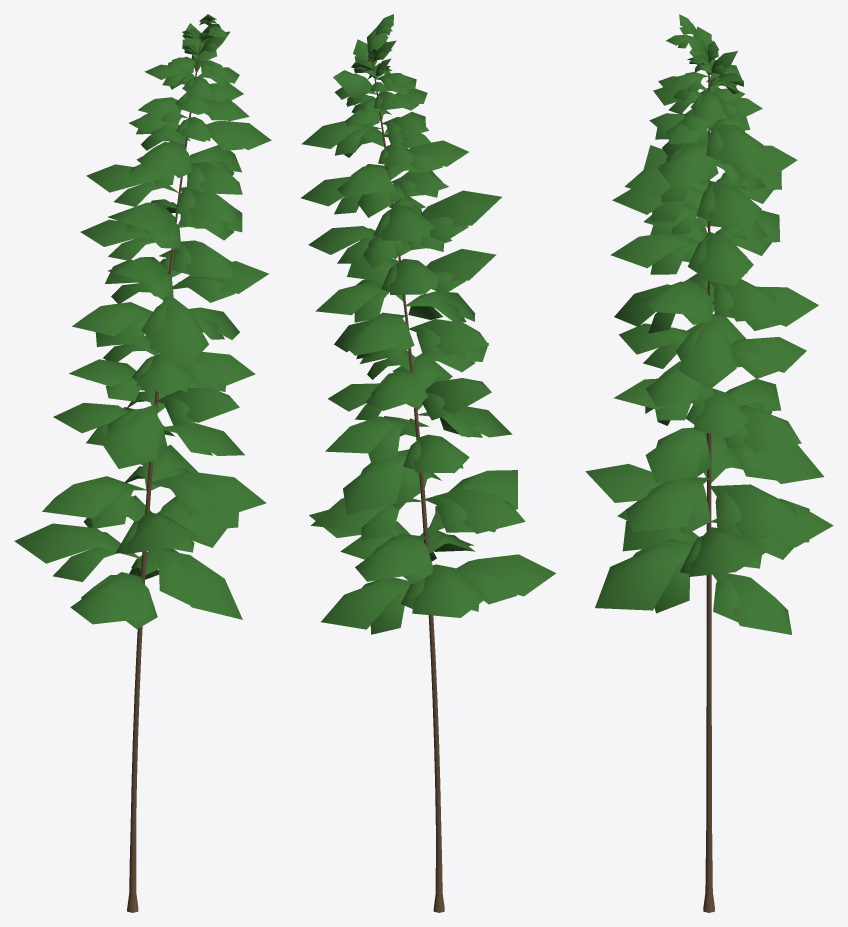
Rendered from Bamboo_C.obj.
The picture shows the model from 3 angles, left to right: view 1: azimuth 30°, elevation 25°; view 2: azimuth 150°, elevation 25°; view 3: azimuth 270°, elevation 25°; orthographic projection. The views are drawn at different scales.
Parts seen in each view (by area): view 1: Leaves, Trunk; view 2: Leaves, Trunk; view 3: Leaves, Trunk.
Part boxes in pixels (x1,y1,x2,y2): Leaves: (14,14,271,628); Trunk: (127,46,200,912); Leaves: (300,14,556,634); Trunk: (372,62,444,912); Leaves: (585,14,833,634); Trunk: (703,60,714,912).
Size of the model in its own units: 7.8 by 31.32 by 7.61.
